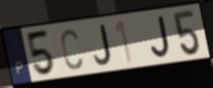1: (114, 19, 133, 64)
5: (25, 27, 56, 78), (170, 7, 201, 57)
C: (59, 28, 84, 73)
J: (150, 14, 172, 59), (92, 23, 113, 66)
